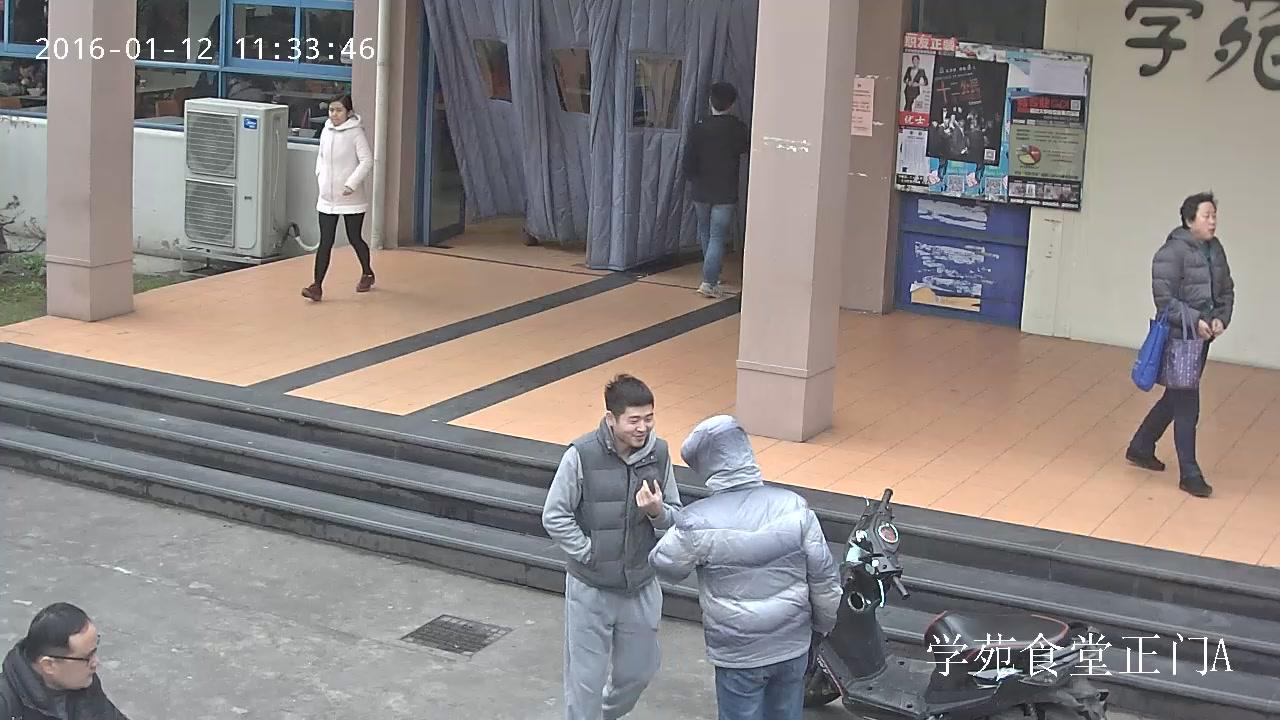person: (647, 414, 843, 720), (541, 373, 683, 720), (1125, 191, 1232, 497), (301, 91, 375, 301), (0, 602, 127, 720), (686, 81, 747, 298), (903, 55, 928, 112)
